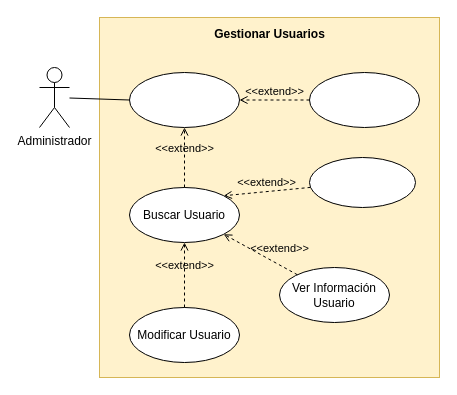
Image size: 457x395. Some labels were removed from this diagram. The box of each missing label's shape, as (x1, y1, x2, y2) in pixels:
Crear Usuario: (308, 72, 420, 128)
Eliminar Usuario: (308, 156, 416, 208)
Listar Usuarios: (128, 72, 240, 128)
